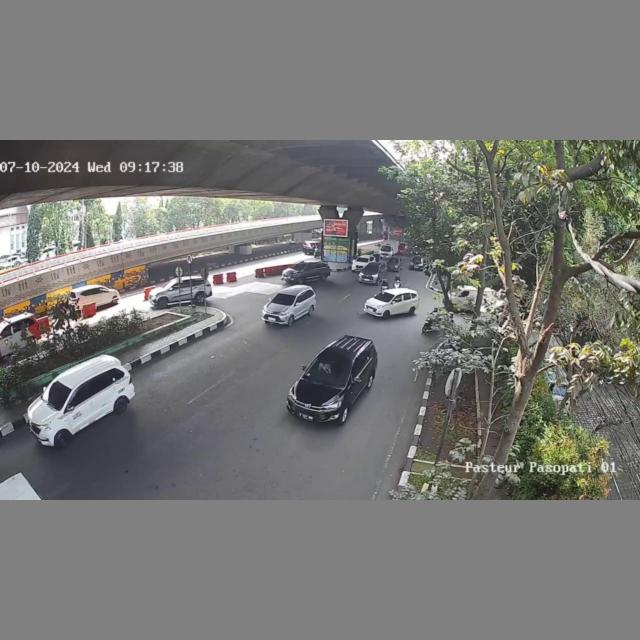windshield: (306, 354, 351, 382), (39, 380, 74, 409), (271, 292, 299, 307), (376, 291, 395, 303)
